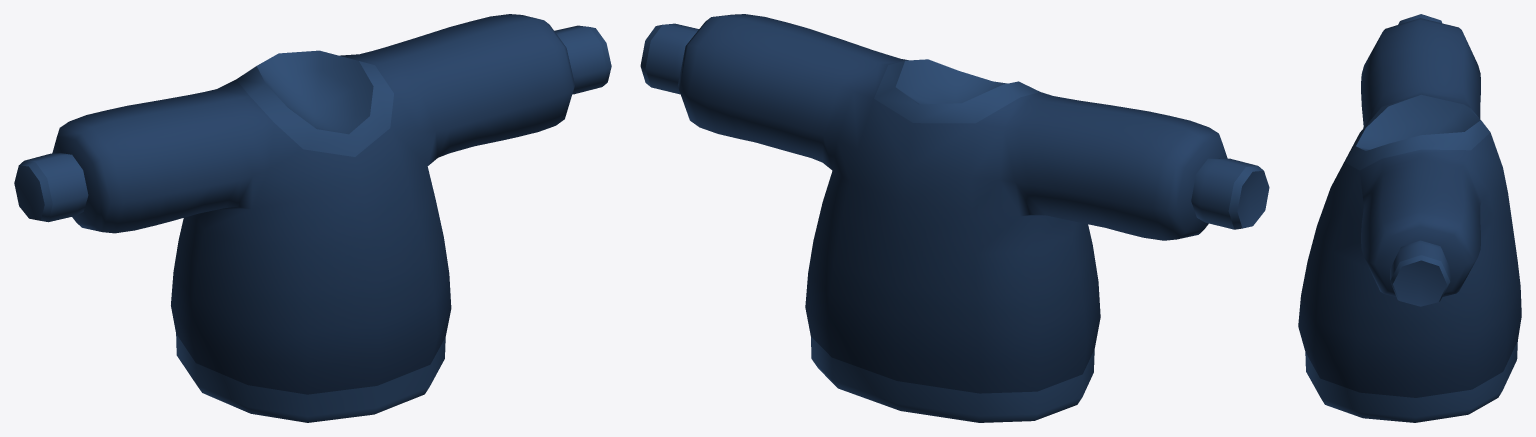
The model's file is Top_17.fbx.
3 views of the same model, side by side, from view 1: azimuth 30°, elevation 25°; view 2: azimuth 150°, elevation 25°; view 3: azimuth 270°, elevation 25° (orthographic). The views are drawn at different scales.
Visible parts, largest first — view 1: Top_17; view 2: Top_17; view 3: Top_17.
Part boxes in pixels (x1=…): Top_17: x1=14, y1=14, x2=611, y2=422; Top_17: x1=640, y1=14, x2=1269, y2=422; Top_17: x1=1298, y1=14, x2=1521, y2=422.
Bounding box in the file's own units: 95.16 × 47.67 × 36.49.
